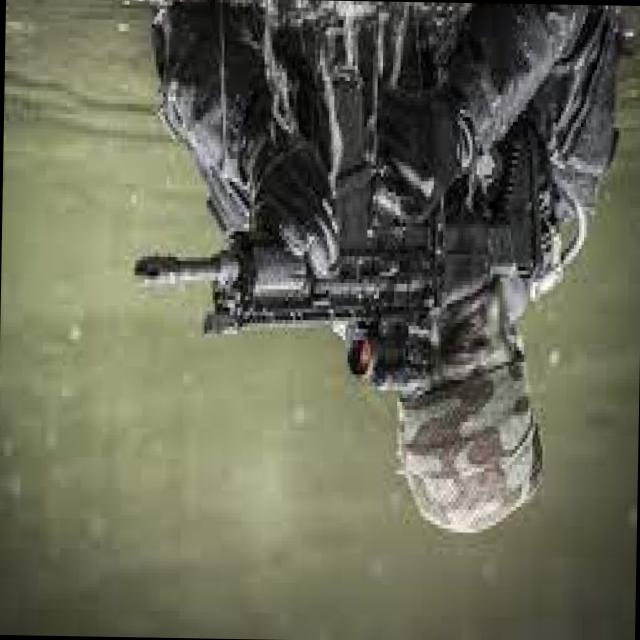Gun: (124, 102, 542, 390)
